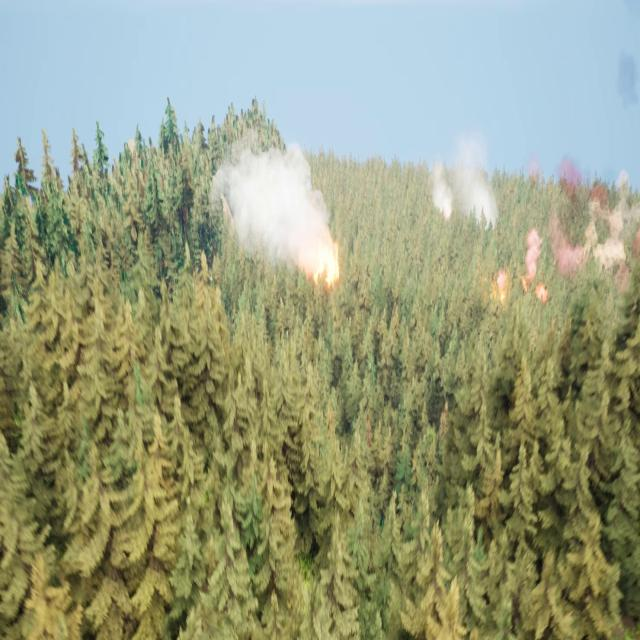fire: (315, 248, 346, 286)
smoke: (208, 138, 334, 274), (550, 164, 640, 282), (422, 137, 499, 235), (524, 227, 549, 310), (487, 268, 512, 306)
